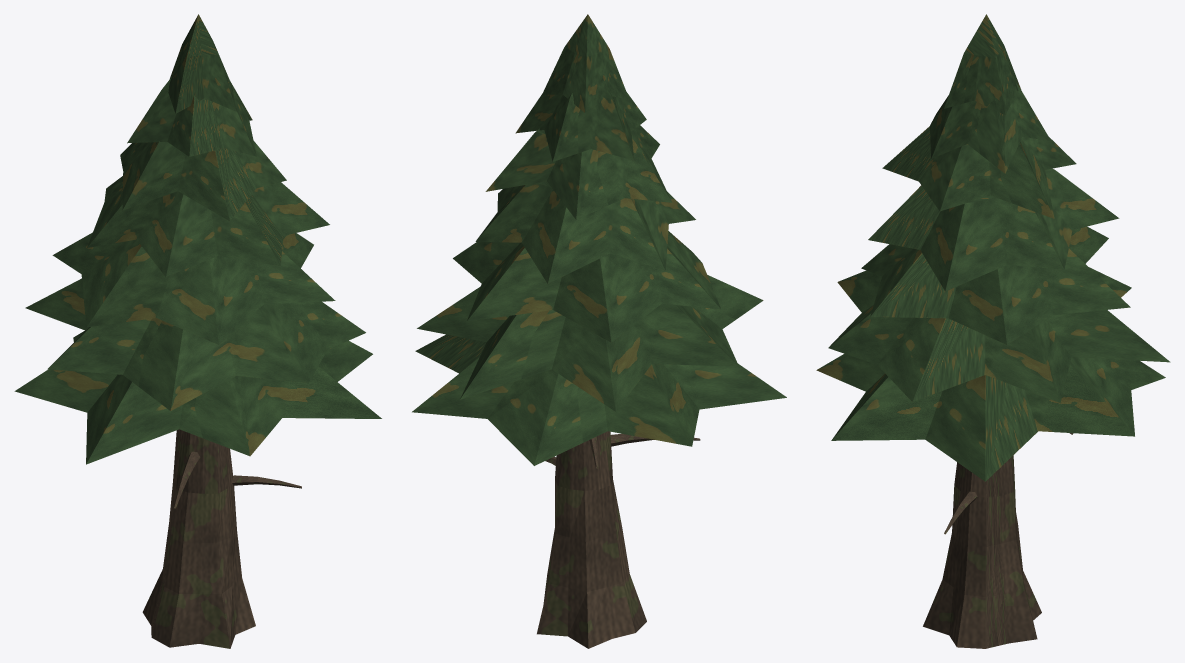
File: PineTree.obj
3 renders of one model, left to right at view 1: azimuth 30°, elevation 25°; view 2: azimuth 150°, elevation 25°; view 3: azimuth 270°, elevation 25°, orthographic.
Visible parts, largest first — view 1: PineTree; view 2: PineTree; view 3: PineTree.
Part boxes in pixels (x1,y1,x2,y2): PineTree: [14, 14, 381, 648]; PineTree: [412, 14, 786, 648]; PineTree: [816, 14, 1170, 648].
Size of the model in its own units: 3.88 by 6.85 by 3.59.
Materials: 2 (2 with a texture image).
